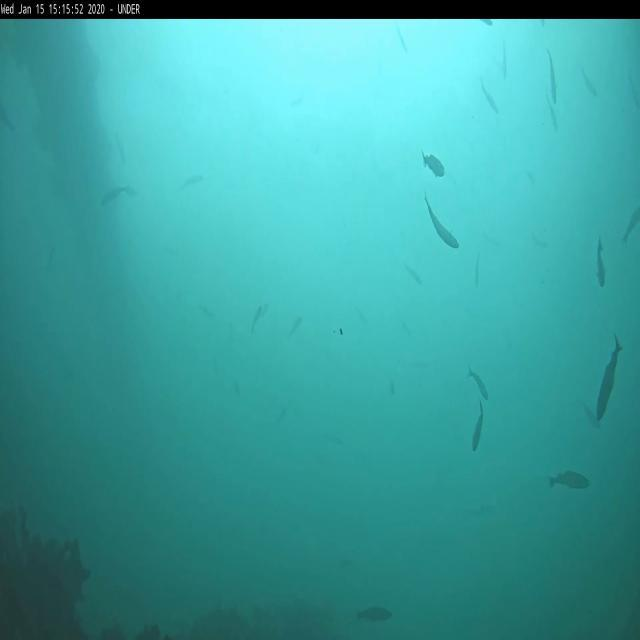fish: (596, 331, 623, 423), (424, 193, 459, 248), (102, 184, 135, 210), (420, 146, 444, 178), (546, 473, 590, 489), (358, 604, 393, 624), (468, 366, 488, 400), (596, 234, 608, 286), (624, 207, 640, 242), (480, 82, 496, 115), (546, 51, 556, 103), (473, 400, 483, 452), (581, 67, 597, 98), (178, 172, 202, 192), (402, 264, 422, 286), (627, 74, 639, 107), (582, 406, 600, 428), (546, 95, 558, 128), (396, 24, 409, 54), (290, 316, 302, 336), (502, 46, 507, 80), (476, 253, 480, 287), (254, 306, 260, 328), (481, 20, 492, 26)
